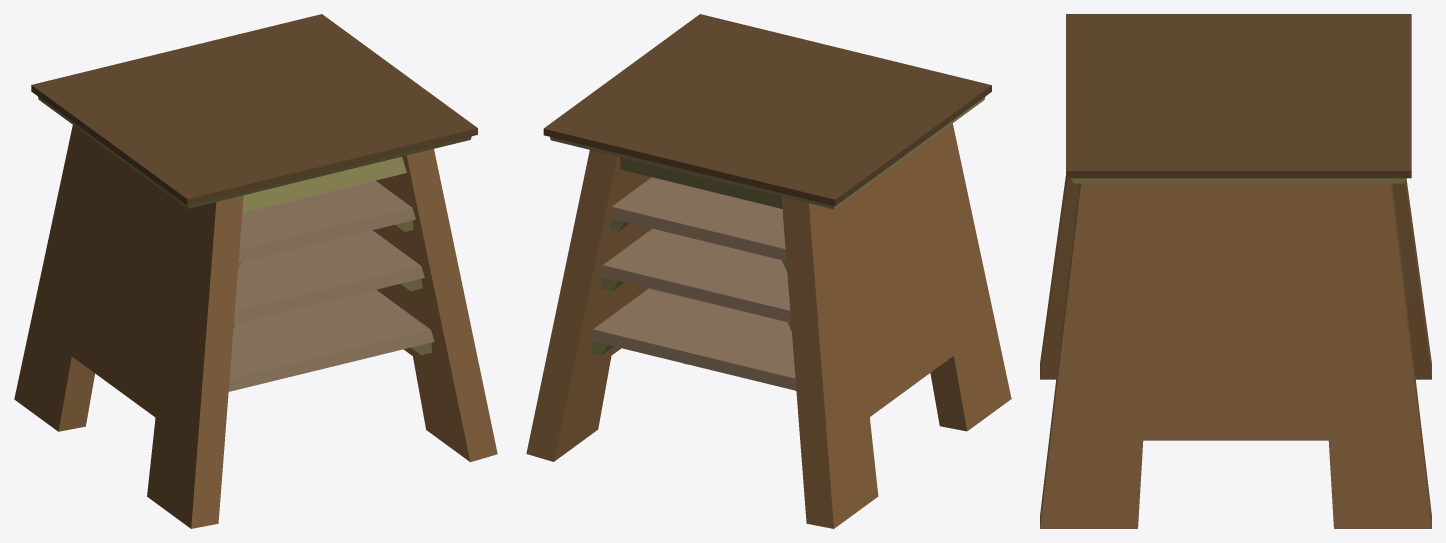
The model's file is nightstand.glb.
The picture shows the model from 3 angles, left to right: view 1: azimuth 30°, elevation 25°; view 2: azimuth 150°, elevation 25°; view 3: azimuth 270°, elevation 25°; orthographic projection. The views are drawn at different scales.
Parts seen in each view (by area): view 1: Nightstand_Shelf; view 2: Nightstand_Shelf; view 3: Nightstand_Shelf.
Boxes of the visible parts, x1,y1,x2,y2 form: Nightstand_Shelf: (14,14,497,528); Nightstand_Shelf: (526,14,1011,528); Nightstand_Shelf: (1040,14,1431,528).
Size of the model in its own units: 1 by 1 by 1.
